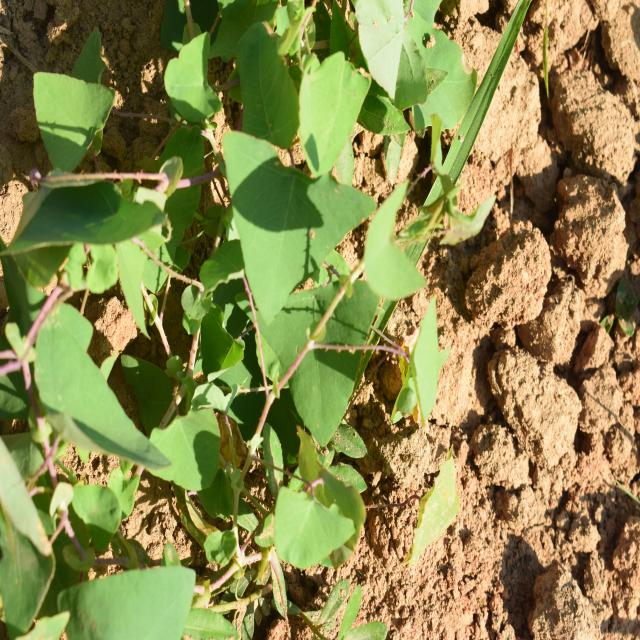Asiatic_Smartweed: (231, 28, 416, 335), (31, 300, 192, 490)
